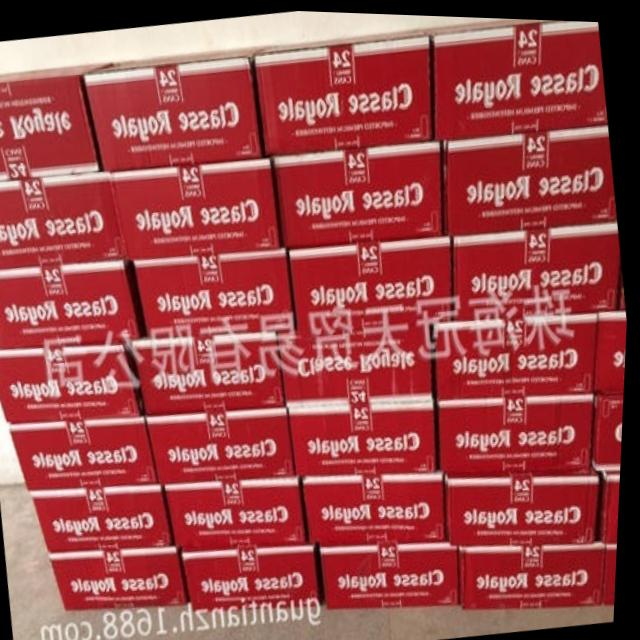box: (82, 41, 266, 170), (254, 23, 433, 155), (421, 14, 609, 138), (108, 154, 285, 260), (447, 123, 619, 232), (273, 139, 446, 247), (455, 218, 623, 319), (290, 236, 456, 333), (436, 309, 601, 399), (139, 251, 300, 341), (0, 61, 113, 182), (282, 321, 438, 406), (0, 260, 146, 349), (134, 333, 290, 416), (0, 170, 129, 269), (442, 389, 597, 469), (0, 341, 147, 424), (448, 469, 605, 543), (10, 417, 164, 491), (150, 407, 299, 483), (292, 400, 444, 474), (170, 475, 312, 548), (306, 471, 450, 541), (324, 537, 465, 608), (34, 484, 177, 553), (186, 542, 326, 609), (465, 540, 609, 605), (54, 549, 192, 613), (599, 307, 630, 390), (595, 391, 627, 468), (605, 468, 624, 539), (608, 539, 622, 601)
